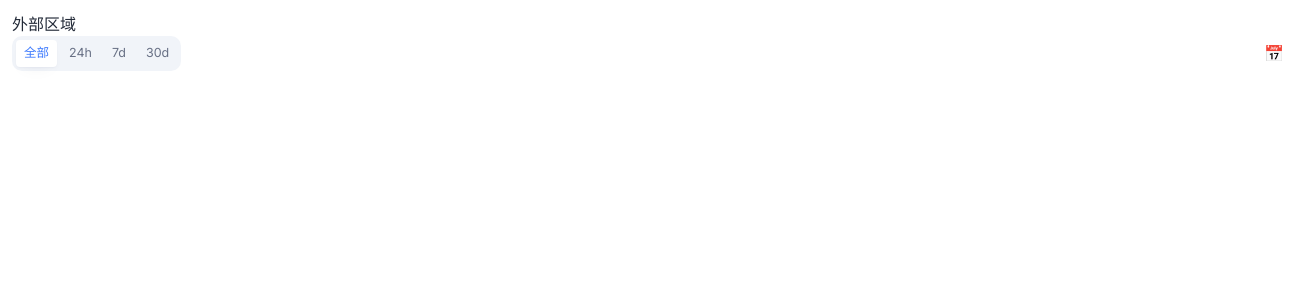
Test: TimeRangeFilter › AC-003: 在时间范围选择弹层打开状态下，点击外部区域，弹层正常关闭
Open picker
What coordinates should you click on to do the following:
click the button with test id "time-custom-button"
I would click on:
 (1274, 53)
Its box is [1260,39,1288,67].
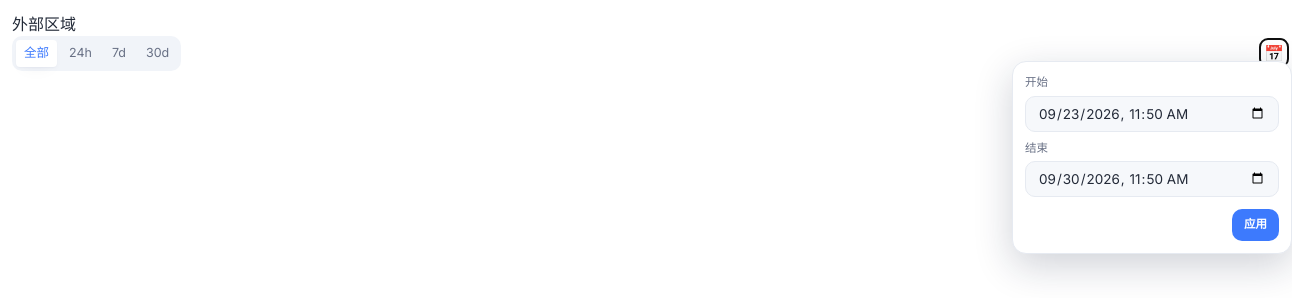
Expected: the button "应用" is shown, [1232,209,1279,241]
Click outside
What coordinates should you click on to do the following:
click the text with test id "outside-element"
I would click on:
 (44, 24)
Its box is [12,14,76,34].
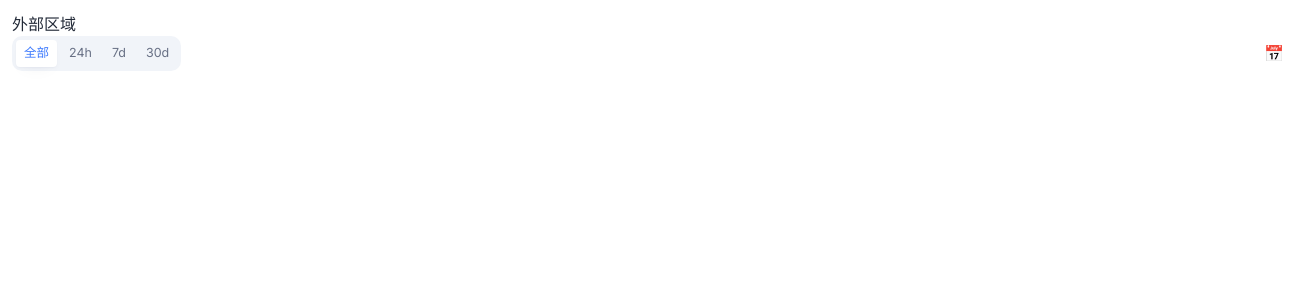
Expected: the button "应用" is gone
